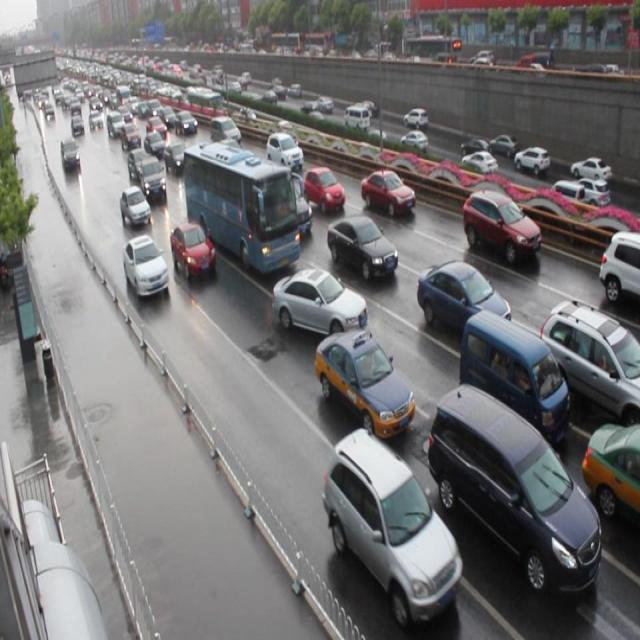car: (321, 426, 462, 624), (536, 296, 640, 432), (310, 322, 409, 435), (416, 258, 511, 336), (270, 264, 368, 339), (580, 420, 640, 530), (461, 188, 540, 264), (326, 211, 399, 284), (597, 227, 640, 306), (122, 234, 168, 298), (170, 219, 218, 279), (360, 167, 416, 218), (302, 165, 344, 213), (265, 130, 304, 173), (118, 184, 153, 228), (139, 155, 168, 203)
truck: (421, 380, 594, 586), (458, 309, 567, 436), (209, 114, 242, 146)
van: (178, 134, 294, 268)
